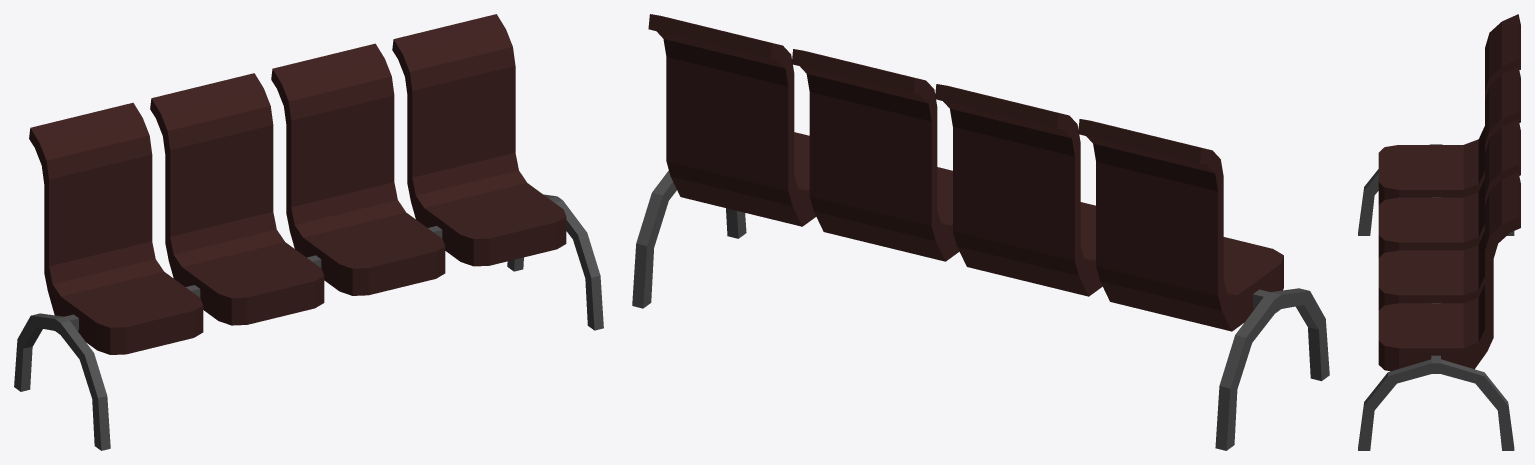
The model's file is Chairs.fbx.
3 views of the same model, side by side, from view 1: azimuth 30°, elevation 25°; view 2: azimuth 150°, elevation 25°; view 3: azimuth 270°, elevation 25° (orthographic). The views are drawn at different scales.
Visible parts, largest first — view 1: pCube35; view 2: pCube35; view 3: pCube35.
Boxes of the visible parts, <box> form: pCube35: <box>14,14,603,450</box>; pCube35: <box>632,14,1329,450</box>; pCube35: <box>1358,14,1520,450</box>.
Size of the model in its own units: 348 by 167 by 109.
